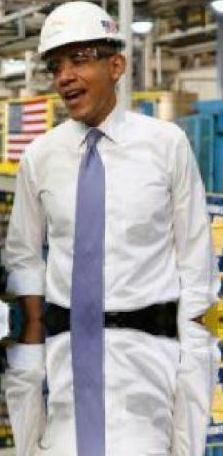hard-hat: (0, 0, 78, 106)
